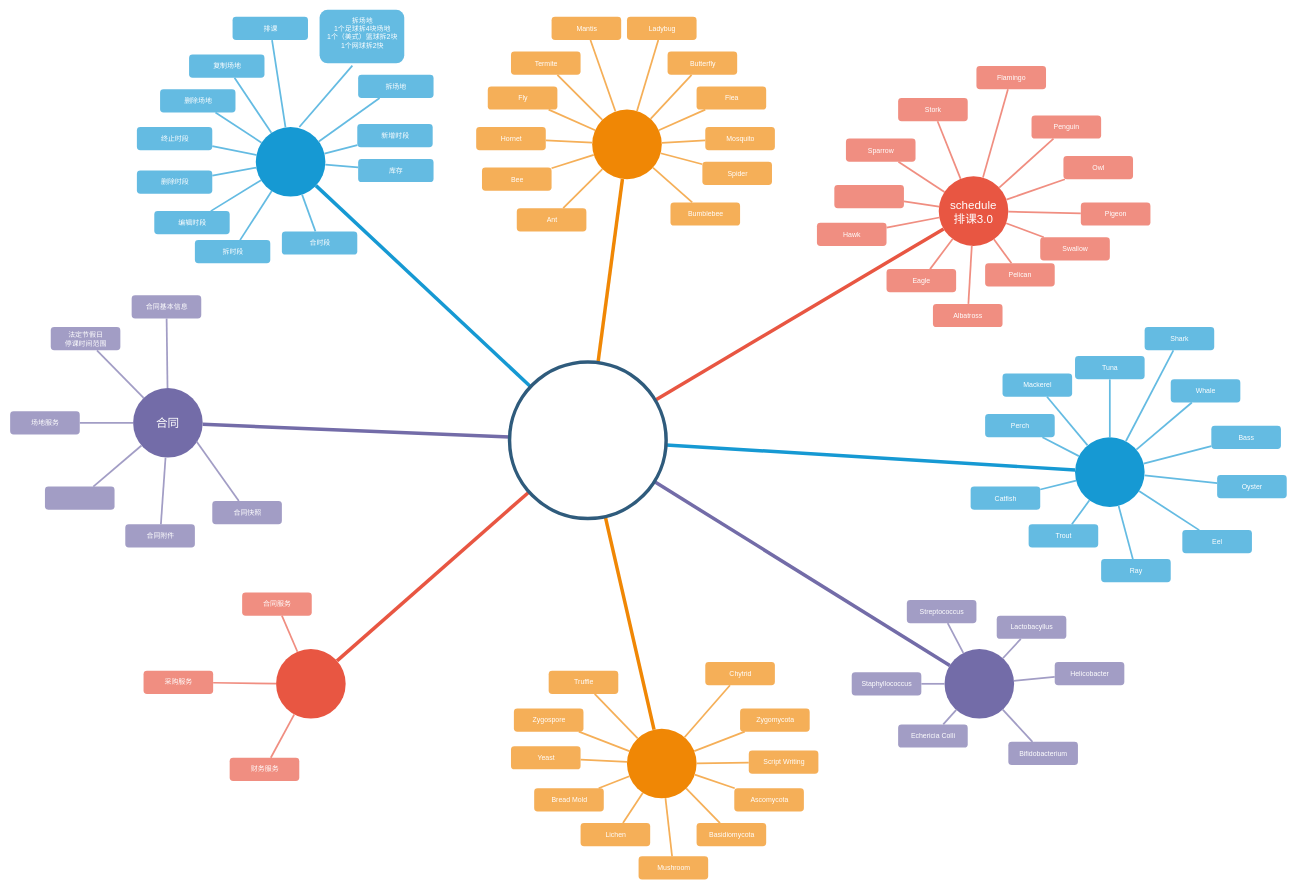
This 1296x890 diagram has some shape labels left out. The shapes that lost their labels are listed below. From the top down, each one's centre as x and y in pixels, then its label:
At [290,161]: "场地".
At [626,144]: "schedule 排课2.0".
At [869,196]: "Falcon".
At [587,440]: "Venue 场馆基础服务".
At [1109,472]: "停课".
At [79,498]: "合同租赁类型 全时、分时、临时".
At [310,683]: "供应商".
At [979,683]: "常用场馆".
At [661,763]: "消息通知".
